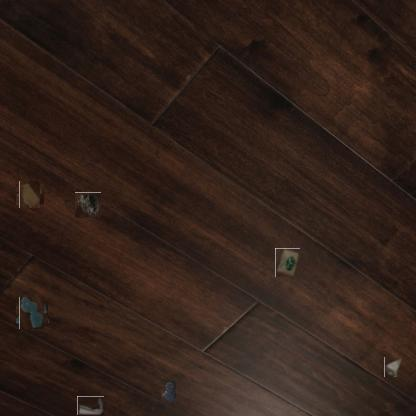dirty: (275, 248, 300, 277), (76, 192, 101, 218), (18, 182, 42, 207), (77, 396, 104, 415), (384, 357, 403, 377)
liquid: (18, 299, 46, 328), (160, 380, 176, 404)
